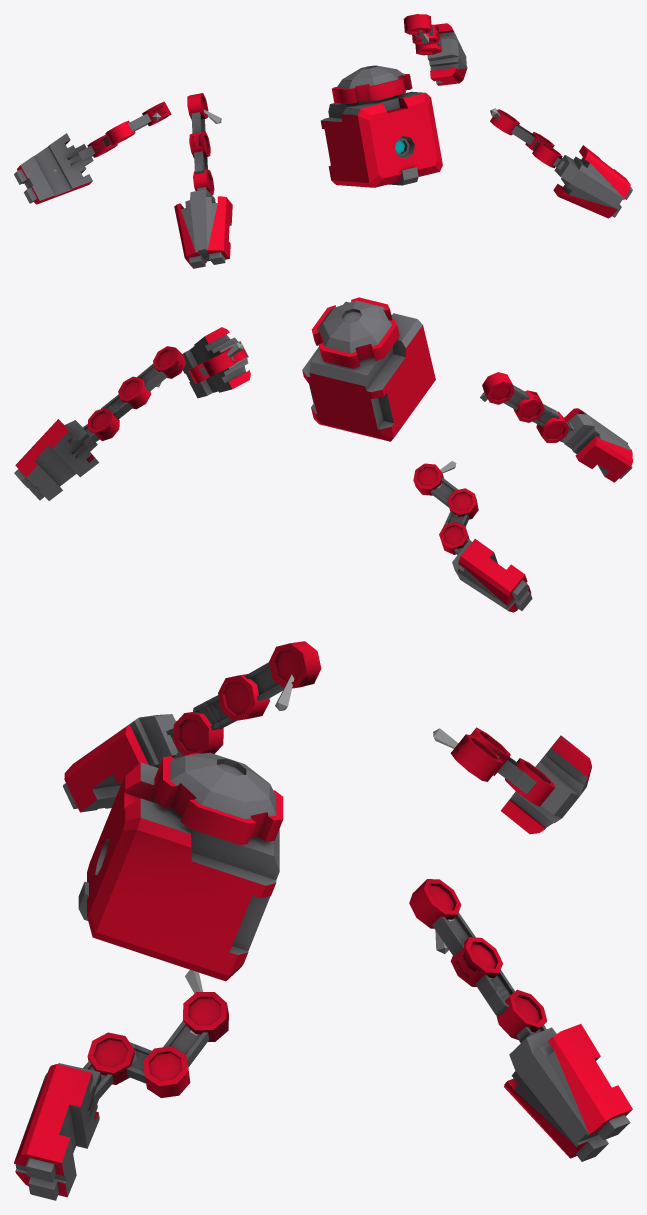
File: Monster1_Die5.obj
3 renders of one model, top to bottom at view 1: azimuth 30°, elevation 25°; view 2: azimuth 150°, elevation 25°; view 3: azimuth 270°, elevation 25°, orthographic. The views are drawn at different scales.
Parts seen in each view (by area): view 1: Box006, Object021, Object017, Object025, Object013, Object023, Object022, Object018, Object026, Object014, Object020, Object027 (+2 smaller); view 2: Box006, Object013, Object025, Object021, Object017, Object014, Object015, Object026, Object022, Object016, Object027, Object023 (+3 smaller); view 3: Box006, Object013, Object017, Object021, Object025, Object018, Object014, Object015, Object022, Object019, Object023, Object020 (+5 smaller).
Part boxes in pixels (x1,y1,x2,y2): Box006: [320, 65, 442, 187]; Object021: [174, 189, 232, 268]; Object017: [553, 145, 632, 218]; Object025: [14, 133, 93, 204]; Object013: [427, 23, 467, 85]; Object023: [189, 131, 210, 174]; Object022: [187, 93, 208, 133]; Object018: [490, 109, 534, 144]; Object026: [128, 101, 171, 131]; Object014: [403, 14, 433, 36]; Object020: [532, 141, 564, 169]; Object027: [102, 120, 135, 146]; Box006: [302, 297, 435, 441]; Object013: [14, 419, 99, 500]; Object025: [452, 539, 532, 612]; Object021: [562, 408, 632, 482]; Object017: [182, 327, 250, 398]; Object014: [137, 346, 185, 391]; Object015: [101, 376, 151, 419]; Object026: [413, 463, 457, 507]; Object022: [482, 372, 529, 410]; Object016: [82, 408, 119, 447]; Object027: [443, 488, 478, 526]; Object023: [513, 390, 559, 426]; Box006: [78, 752, 283, 981]; Object013: [504, 1024, 632, 1161]; Object017: [14, 1063, 101, 1200]; Object021: [63, 714, 178, 812]; Object025: [501, 735, 591, 834]; Object018: [163, 992, 228, 1067]; Object014: [409, 879, 475, 956]; Object015: [450, 937, 514, 1016]; Object022: [244, 641, 321, 700]; Object019: [126, 1042, 190, 1097]; Object023: [193, 674, 269, 730]; Object020: [83, 1032, 134, 1103].
Size of the model in its own units: 336 by 109 by 222.
